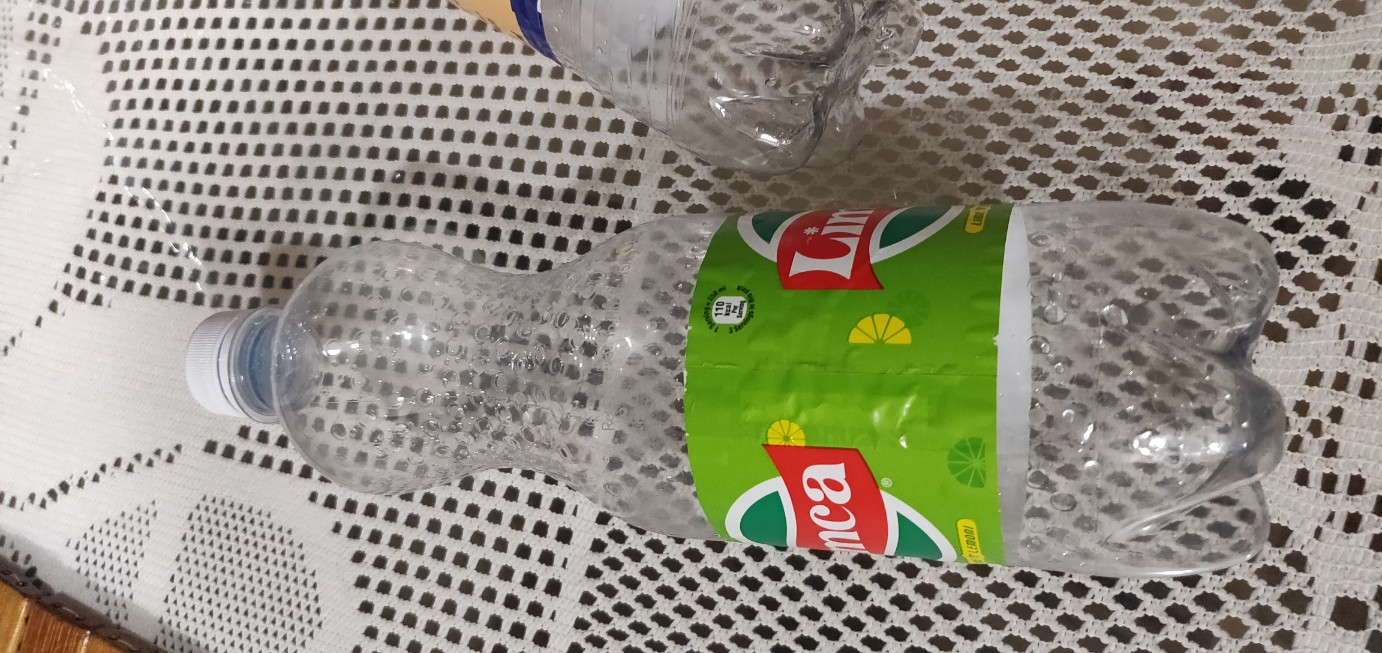Electronics: (154, 172, 1348, 608)
